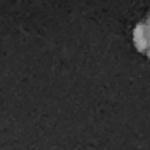colony: (126, 6, 150, 61)
